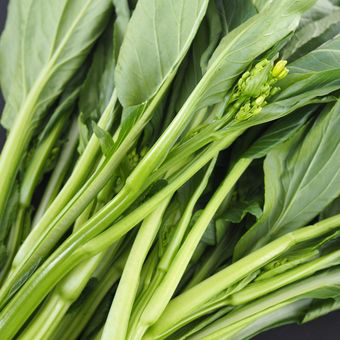Sawi: (73, 34, 309, 321)
